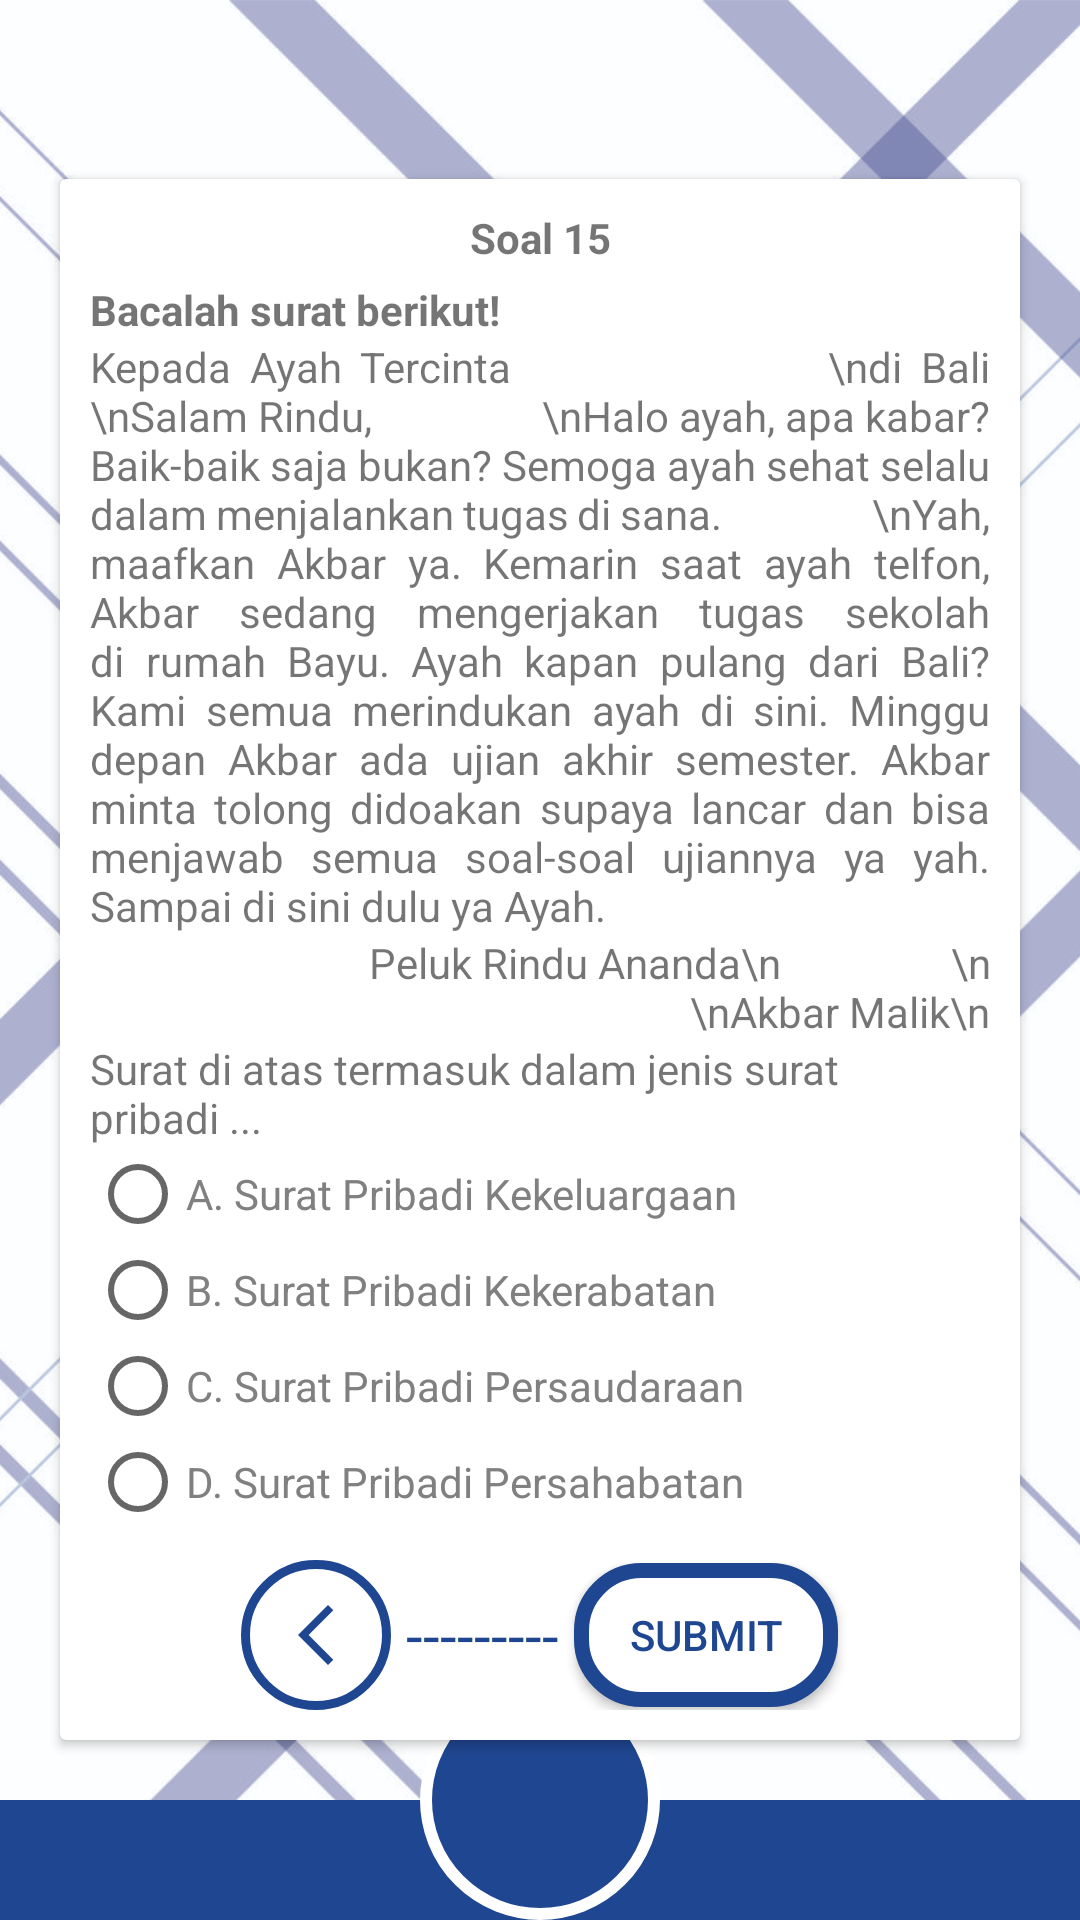

Screen size 1080*1920. Icon name, then its box in pixels as box(x1, y1, x2, y2):
arrow back: box(241, 1560, 391, 1710)
